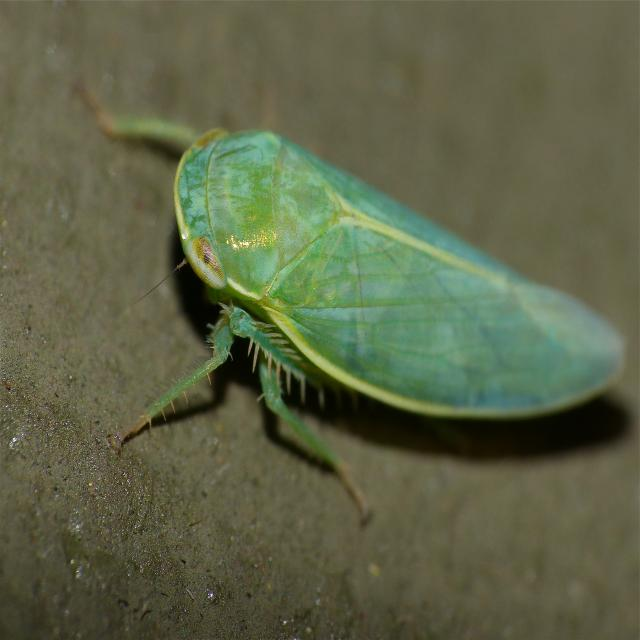Yechan: (113, 111, 629, 492)
